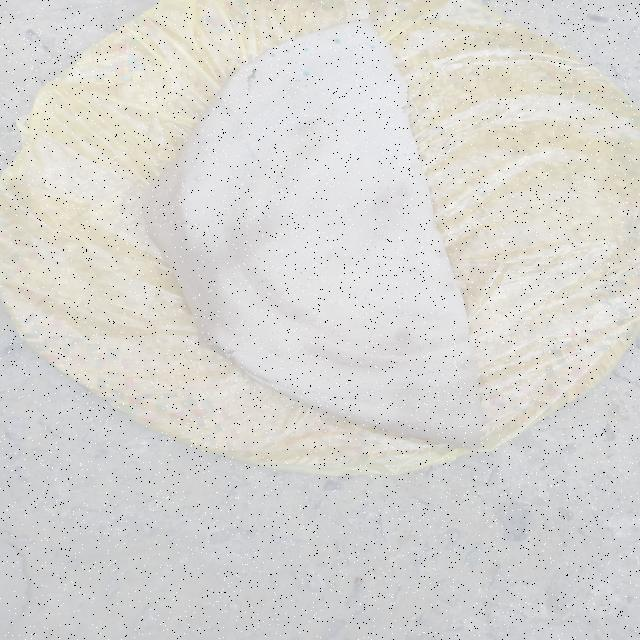injera_mold: (269, 194, 283, 202), (240, 64, 248, 72), (333, 38, 342, 45), (398, 290, 406, 297), (302, 70, 310, 76), (338, 410, 346, 414), (232, 76, 240, 80), (252, 74, 258, 79), (269, 54, 276, 58), (303, 48, 310, 52), (181, 182, 185, 188), (284, 49, 290, 53), (370, 45, 376, 49), (351, 34, 356, 38), (425, 404, 429, 408), (317, 33, 322, 36), (349, 49, 354, 52), (299, 68, 303, 71), (433, 399, 436, 402), (338, 406, 342, 408), (428, 408, 430, 411), (192, 180, 195, 182), (421, 411, 423, 413), (188, 188, 190, 190), (183, 178, 185, 180), (418, 408, 421, 409), (429, 401, 431, 402), (196, 184, 197, 186), (183, 190, 184, 192), (181, 179, 182, 181)
